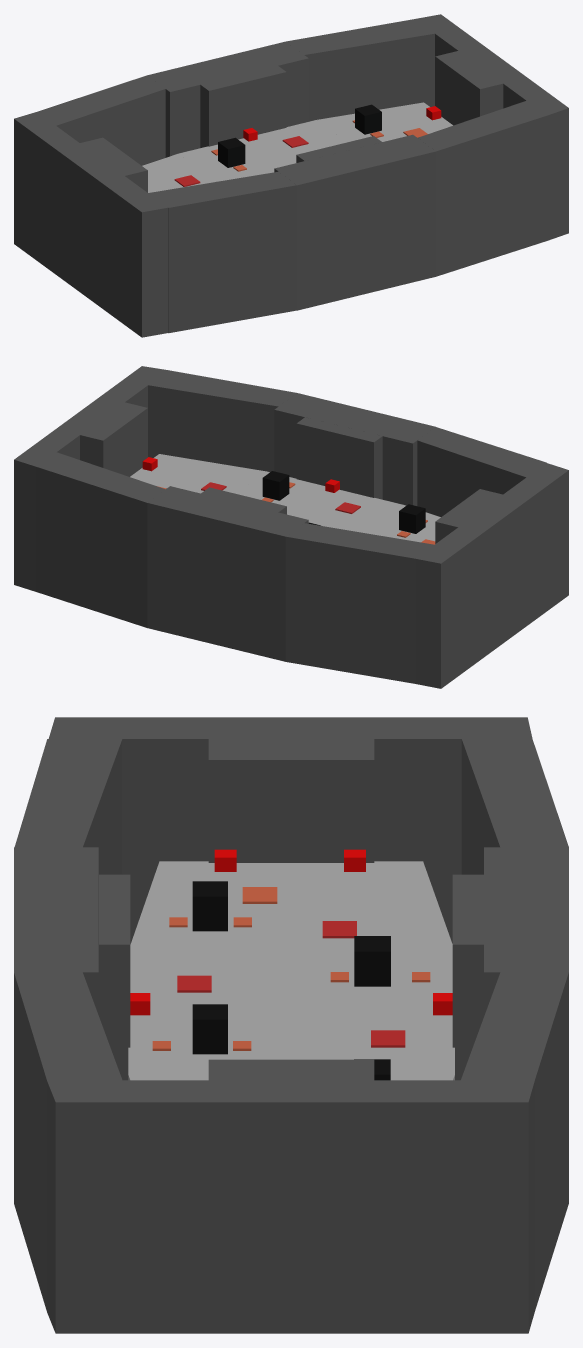
The model's file is Lvl3_Boss.fbx.
The picture shows the model from 3 angles, top to bottom: view 1: azimuth 30°, elevation 25°; view 2: azimuth 150°, elevation 25°; view 3: azimuth 270°, elevation 25°; orthographic projection. The views are drawn at different scales.
Parts seen in each view (by area): view 1: Walls13, Walls24, Walls22, Walls25, Walls20, Walls15, Walls12, Walls23, Walls21, Walls17, Walls16, Walls19 (+7 smaller); view 2: Walls12, Walls23, Walls25, Walls22, Walls21, Walls15, Walls13, Walls24, Walls20, Walls14, Walls16, Walls18 (+7 smaller); view 3: Walls16, Walls19, Walls18, Floor281, Walls15, Floor282, Walls25, Walls21, Walls22, Walls20, Walls12, Walls13 (+8 smaller).
Part boxes in pixels (box(x1,y1,x2,y2)): Walls13: box(274, 134, 435, 310); Walls24: box(148, 171, 297, 333); Walls22: box(418, 100, 546, 276); Walls25: box(286, 19, 434, 121); Walls20: box(100, 176, 167, 337); Walls15: box(55, 137, 147, 306); Walls12: box(147, 41, 308, 157); Walls23: box(37, 75, 165, 165); Walls21: box(14, 112, 79, 274); Walls17: box(200, 66, 286, 147); Walls16: box(435, 45, 526, 125); Walls19: box(503, 77, 568, 240); Walls12: box(147, 486, 308, 661); Walls23: box(285, 523, 434, 683); Walls25: box(36, 452, 165, 627); Walls22: box(148, 370, 296, 471); Walls21: box(415, 527, 482, 688); Walls15: box(435, 489, 527, 657); Walls13: box(274, 393, 435, 505); Walls24: box(417, 427, 546, 516); Walls20: box(503, 463, 568, 625); Walls14: box(296, 417, 382, 499); Walls16: box(56, 396, 147, 476); Walls18: box(14, 429, 79, 591); Walls16: box(208, 1059, 374, 1333); Walls19: box(47, 1080, 208, 1333); Walls18: box(374, 1080, 534, 1333); Floor281: box(128, 950, 454, 1074); Walls15: box(208, 717, 374, 862); Floor282: box(130, 861, 452, 950); Walls25: box(461, 972, 568, 1310); Walls21: box(374, 717, 532, 943); Walls22: box(14, 972, 122, 1310); Walls20: box(48, 717, 208, 944); Walls12: box(484, 847, 568, 1016); Walls13: box(14, 847, 98, 1014).
Size of the model in its own units: 70.21 by 19.68 by 42.77.
